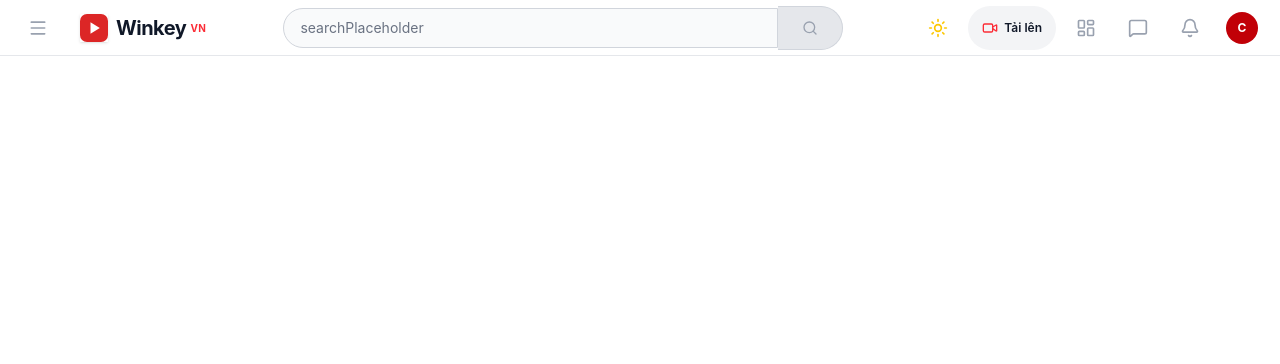
Task ROLE1 (ADR-046): Role-based Navigation & Visibility › 1. TopBar Role Visibility › Creator user: sees Upload and Studio buttons, and Studio in menu, but no upgrade button
This screenshot has width=1280, height=364.
Expected: the link with test id "topbar-upload-btn" is shown, [968, 6, 1056, 50]
Expected: the link with test id "topbar-studio-btn" is shown, [1076, 18, 1096, 38]
What coordinates should you click on to do the following:
click the button named "User profile menu"
I would click on:
 (1242, 28)
Its box is [1220, 6, 1264, 50].
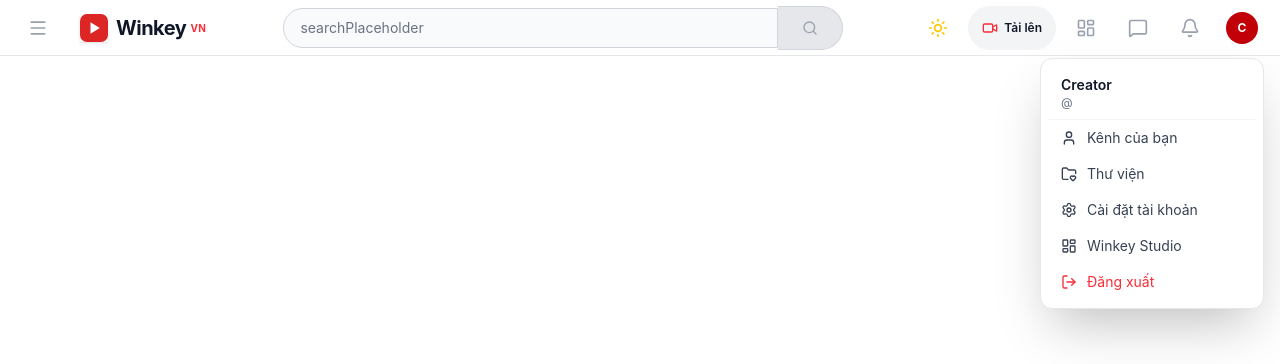
Expected: the link with test id "user-menu-studio-btn" is shown, [1061, 236, 1182, 254]
